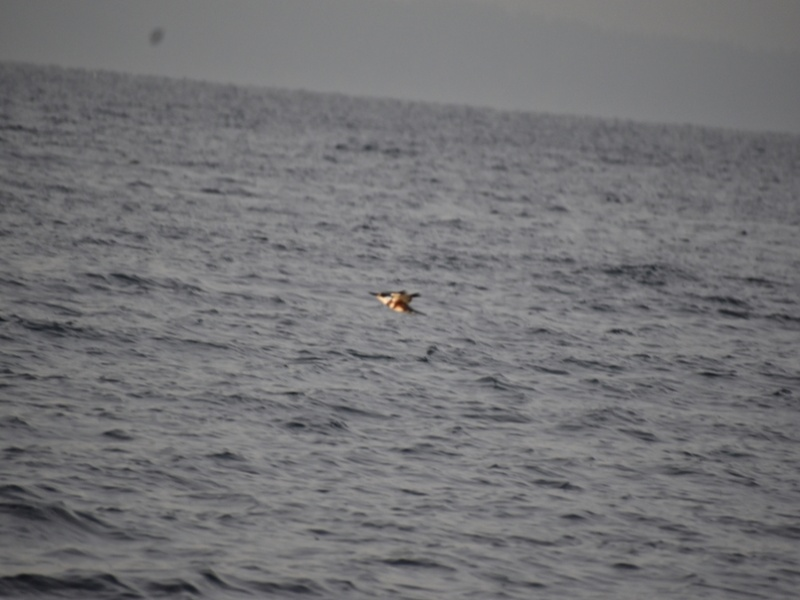kingfisher: (369, 287, 422, 316)
